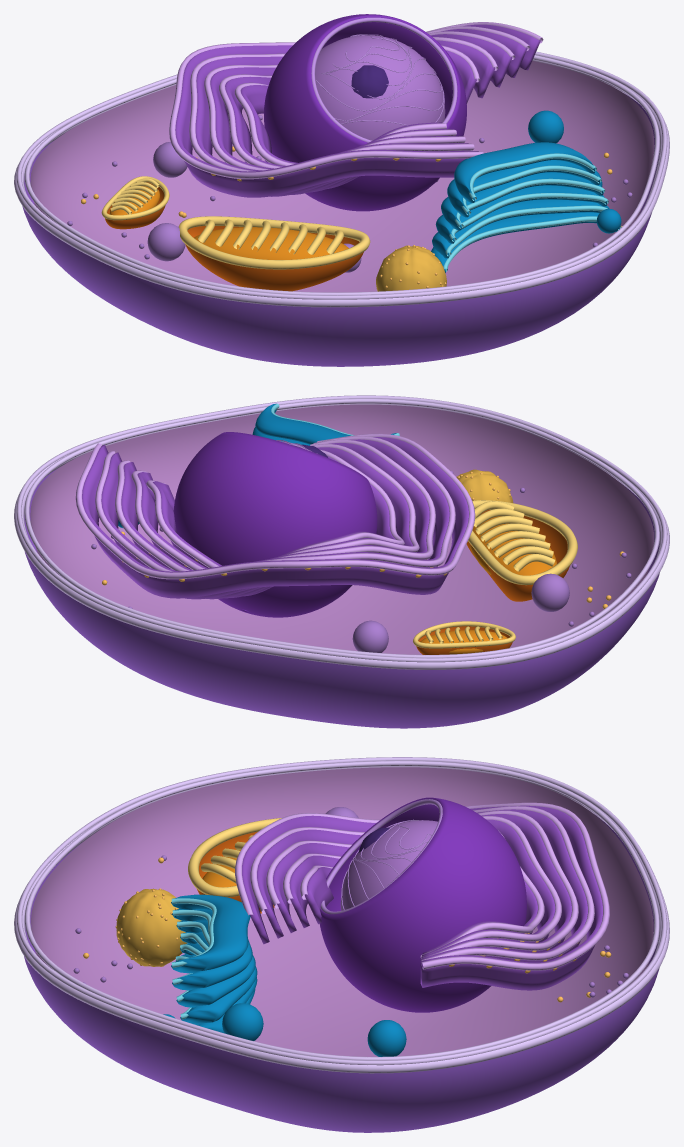
Rendered from modelo-v1.glb.
3 views of the same model, one above another, from view 1: azimuth 30°, elevation 25°; view 2: azimuth 150°, elevation 25°; view 3: azimuth 270°, elevation 25° (orthographic). The views are drawn at different scales.
Parts seen in each view (by area): view 1: membrana_Citoplasma lavanda, membrana_Membrana perlada, reticulo_Membranas del reticulo, membrana_Borde luminoso, nucleo_Envoltura nuclear, reticulo_Bordes del reticulo, golgi_Sacos de Golgi, nucleo_Interior nuclear, mitocondria_Crestas mitocondriales, golgi_Bordes de Golgi, mitocondria_Membrana mitocondrial, nucleo_Cromatina (+4 smaller); view 2: membrana_Citoplasma lavanda, membrana_Membrana perlada, nucleo_Envoltura nuclear, reticulo_Membranas del reticulo, membrana_Borde luminoso, reticulo_Bordes del reticulo, mitocondria_Crestas mitocondriales, mitocondria_Membrana mitocondrial, lisosoma_Vesiculas, mitocondria_Interior mitocondrial, golgi_Sacos de Golgi, lisosoma_Lisosomas; view 3: membrana_Citoplasma lavanda, membrana_Membrana perlada, nucleo_Envoltura nuclear, membrana_Borde luminoso, reticulo_Membranas del reticulo, reticulo_Bordes del reticulo, golgi_Sacos de Golgi, lisosoma_Lisosomas, nucleo_Interior nuclear, mitocondria_Crestas mitocondriales, nucleo_Cromatina, golgi_Bordes de Golgi (+1 smaller).
Part boxes in pixels (x1,y1,x2,y2): membrana_Citoplasma lavanda: (30,60,654,292); membrana_Membrana perlada: (22,93,659,366); reticulo_Membranas del reticulo: (175,24,540,197); membrana_Borde luminoso: (14,51,669,307); nucleo_Envoltura nuclear: (264,14,466,211); reticulo_Bordes del reticulo: (169,22,543,179); golgi_Sacos de Golgi: (431,110,621,272); nucleo_Interior nuclear: (315,35,445,140); mitocondria_Crestas mitocondriales: (101,176,370,269); golgi_Bordes de Golgi: (443,153,621,271); mitocondria_Membrana mitocondrial: (105,182,363,291); nucleo_Cromatina: (311,17,457,142); membrana_Citoplasma lavanda: (30,404,653,654); membrana_Membrana perlada: (24,468,659,728); nucleo_Envoltura nuclear: (173,432,377,617); reticulo_Membranas del reticulo: (82,437,468,599); membrana_Borde luminoso: (14,395,669,669); reticulo_Bordes del reticulo: (75,433,475,579); mitocondria_Crestas mitocondriales: (413,500,577,648); mitocondria_Membrana mitocondrial: (416,509,569,654); lisosoma_Vesiculas: (352,573,569,652); mitocondria_Interior mitocondrial: (420,516,556,654); golgi_Sacos de Golgi: (118,404,396,528); lisosoma_Lisosomas: (456,469,513,502); membrana_Citoplasma lavanda: (31,767,653,1056); membrana_Membrana perlada: (24,814,659,1132); nucleo_Envoltura nuclear: (319,797,526,1012); membrana_Borde luminoso: (14,757,669,1073); reticulo_Membranas del reticulo: (242,805,602,990); reticulo_Bordes del reticulo: (235,802,609,970); golgi_Sacos de Golgi: (163,894,406,1056); lisosoma_Lisosomas: (116,888,186,966); nucleo_Interior nuclear: (340,820,437,910); mitocondria_Crestas mitocondriales: (188,818,281,897); nucleo_Cromatina: (320,799,442,914); golgi_Bordes de Golgi: (171,898,216,1019).
Size of the model in its own units: 5.97 by 2.54 by 5.37.
